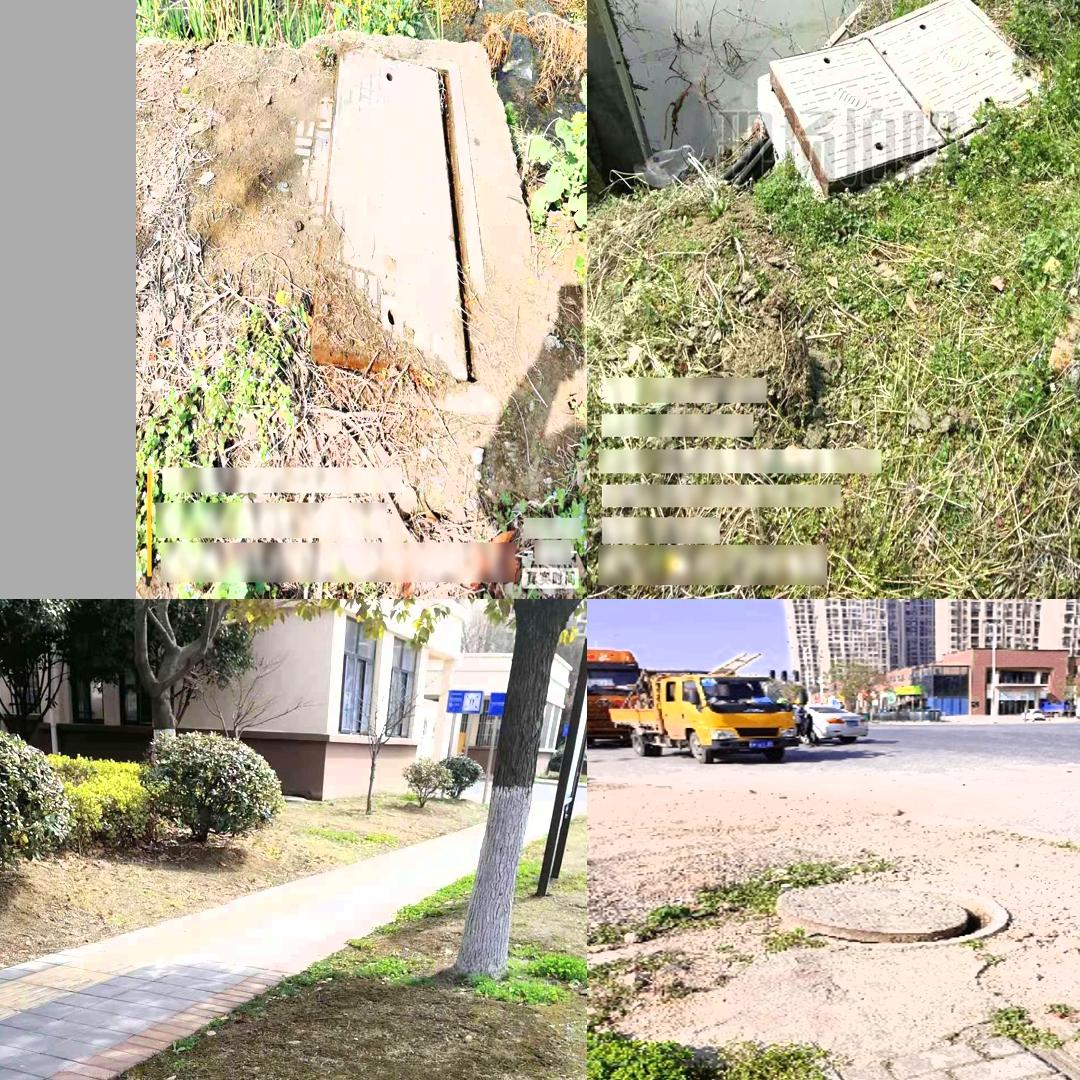uncovered: (285, 39, 500, 405), (756, 0, 1047, 198), (773, 885, 1010, 946)
